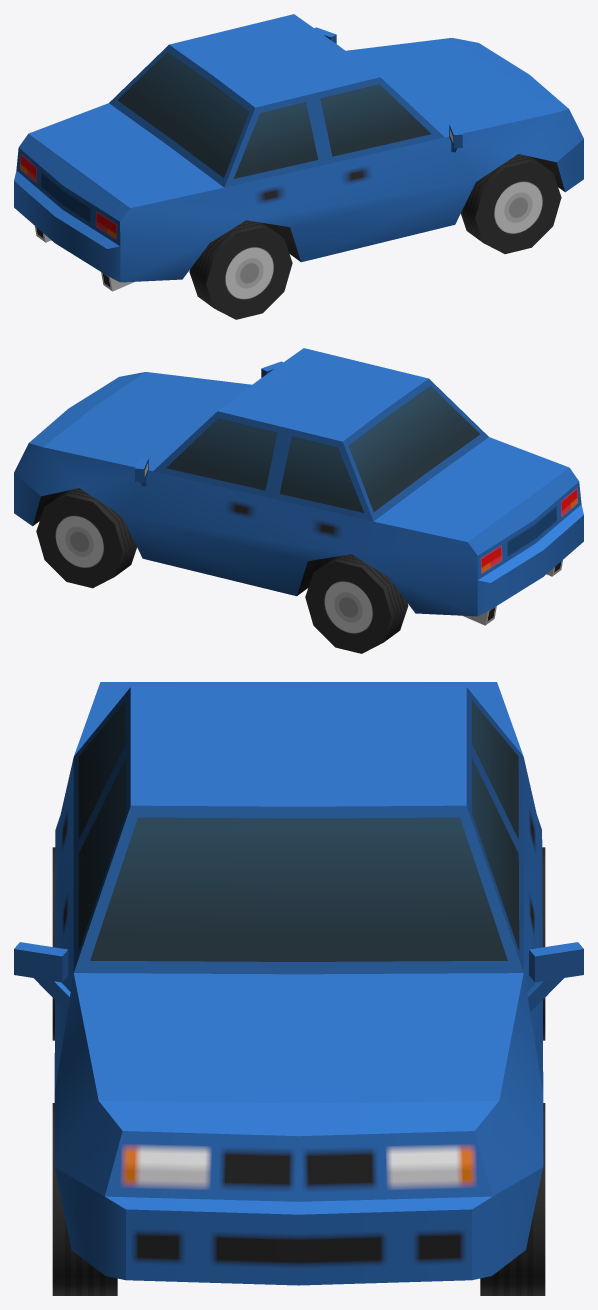
File: Car_199.glb
3 renders of one model, top to bottom at view 1: azimuth 30°, elevation 25°; view 2: azimuth 150°, elevation 25°; view 3: azimuth 270°, elevation 25°, orthographic. The views are drawn at different scales.
Visible parts, largest first — view 1: Car_199, wheel_3_Car_199_Wheel_2R, wheel_1_Car_199_Wheel_1R; view 2: Car_199, wheel_2_Car_199_Wheel_2L, wheel_0_Car_199_Wheel_1L; view 3: Car_199, wheel_0_Car_199_Wheel_1L, wheel_1_Car_199_Wheel_1R.
Part boxes in pixels (<box>): Car_199: <box>14,14,583,291</box>; wheel_3_Car_199_Wheel_2R: <box>189,220,292,319</box>; wheel_1_Car_199_Wheel_1R: <box>461,154,561,254</box>; Car_199: <box>14,348,583,625</box>; wheel_2_Car_199_Wheel_2L: <box>305,554,408,653</box>; wheel_0_Car_199_Wheel_1L: <box>36,488,136,588</box>; Car_199: <box>14,682,583,1285</box>; wheel_0_Car_199_Wheel_1L: <box>480,1103,545,1295</box>; wheel_1_Car_199_Wheel_1R: <box>52,1103,117,1295</box>.
Size of the model in its own units: 4.11 by 1.51 by 2.13.
1 material, 1 textured.
